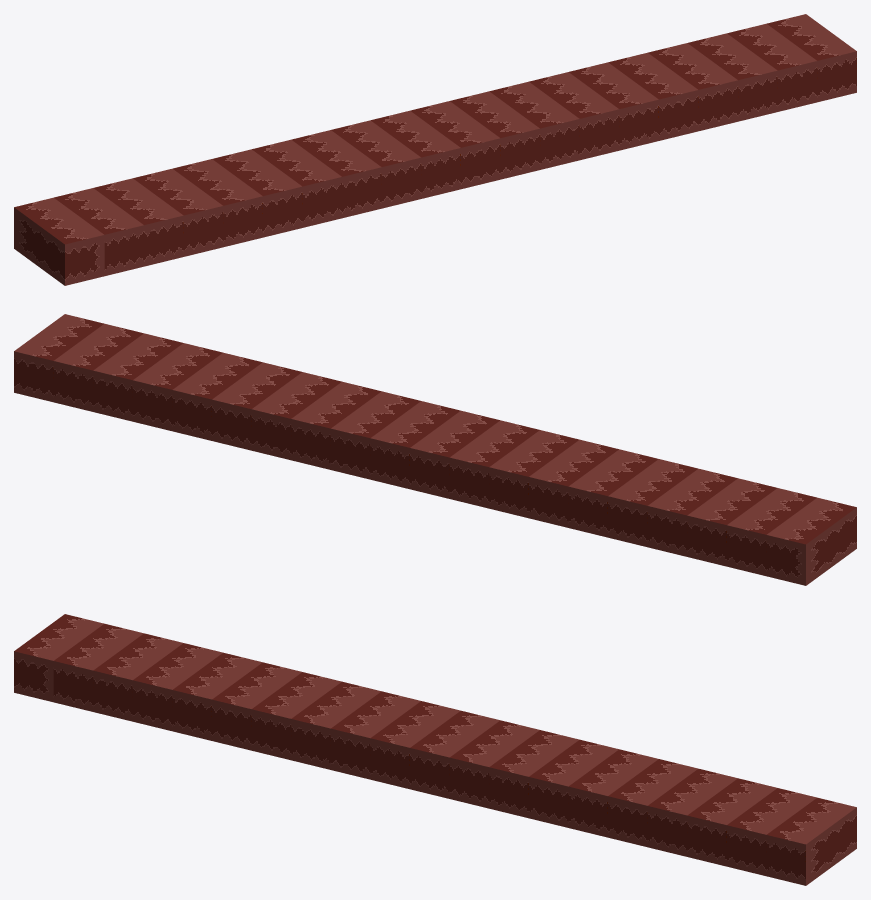
The model's file is Luna5TransicaoSolo.glb.
3 renders of one model, top to bottom at view 1: azimuth 30°, elevation 25°; view 2: azimuth 150°, elevation 25°; view 3: azimuth 330°, elevation 25°, orthographic.
Visible parts, largest first — view 1: Setor_0; view 2: Setor_0; view 3: Setor_0.
Boxes of the visible parts, x1,y1,x2,y2 form: Setor_0: [14, 14, 856, 285]; Setor_0: [14, 314, 856, 585]; Setor_0: [14, 614, 856, 885].
Size of the model in its own units: 25.5 by 1.27 by 2.84.
1 material, 1 textured.
